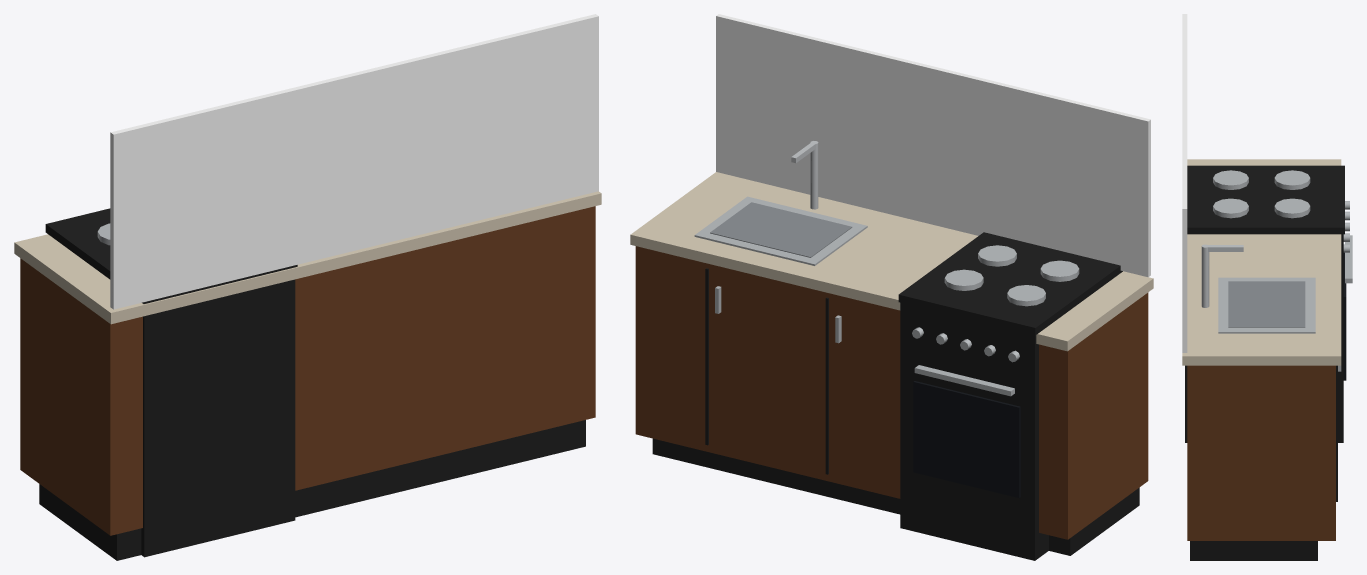
File: counter.obj
3 views of the same model, side by side, from view 1: azimuth 30°, elevation 25°; view 2: azimuth 150°, elevation 25°; view 3: azimuth 270°, elevation 25° (orthographic). The views are drawn at different scales.
Parts seen in each view (by area): view 1: counter_0, counter_9, counter_14, counter_8, counter_1, counter_15; view 2: counter_0, counter_9, counter_8, counter_14, counter_15, counter_20, counter_1, counter_11, counter_10, counter_21, counter_4, counter_6 (+4 smaller); view 3: counter_0, counter_8, counter_15, counter_11, counter_1, counter_10, counter_9, counter_14, counter_16, counter_17, counter_19, counter_18 (+5 smaller).
Boxes of the visible parts, <box> form: counter_0: <box>20,206,595,535</box>; counter_9: <box>110,14,598,309</box>; counter_14: <box>141,279,295,557</box>; counter_8: <box>14,191,601,324</box>; counter_1: <box>39,420,585,560</box>; counter_15: <box>45,208,297,303</box>; counter_0: <box>635,246,1148,539</box>; counter_9: <box>716,14,1150,277</box>; counter_8: <box>630,172,1153,351</box>; counter_14: <box>900,302,1048,560</box>; counter_15: <box>898,232,1122,335</box>; counter_20: <box>913,381,1020,497</box>; counter_1: <box>652,438,1139,555</box>; counter_11: <box>710,202,852,257</box>; counter_10: <box>694,196,867,265</box>; counter_21: <box>914,365,1014,396</box>; counter_4: <box>825,297,828,474</box>; counter_6: <box>705,268,708,445</box>; counter_0: <box>1187,365,1335,540</box>; counter_8: <box>1182,159,1341,365</box>; counter_15: <box>1187,165,1344,234</box>; counter_11: <box>1228,281,1305,327</box>; counter_1: <box>1190,541,1317,560</box>; counter_10: <box>1218,277,1315,333</box>; counter_9: <box>1182,14,1187,352</box>; counter_14: <box>1185,234,1343,442</box>; counter_16: <box>1274,170,1310,189</box>; counter_17: <box>1274,198,1310,218</box>; counter_19: <box>1213,198,1248,218</box>; counter_18: <box>1213,170,1248,189</box>.
Size of the model in its own units: 1.82 by 1.53 by 0.665.
